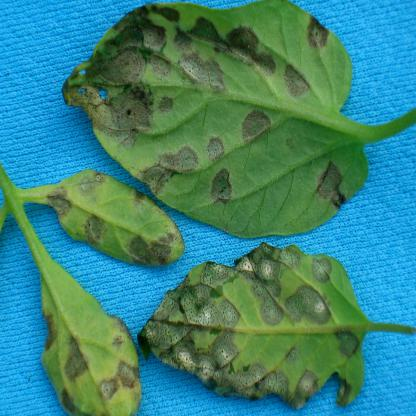tomato septoria leaf spot: (57, 6, 379, 241), (129, 242, 404, 412), (35, 243, 136, 416), (44, 167, 189, 270)
